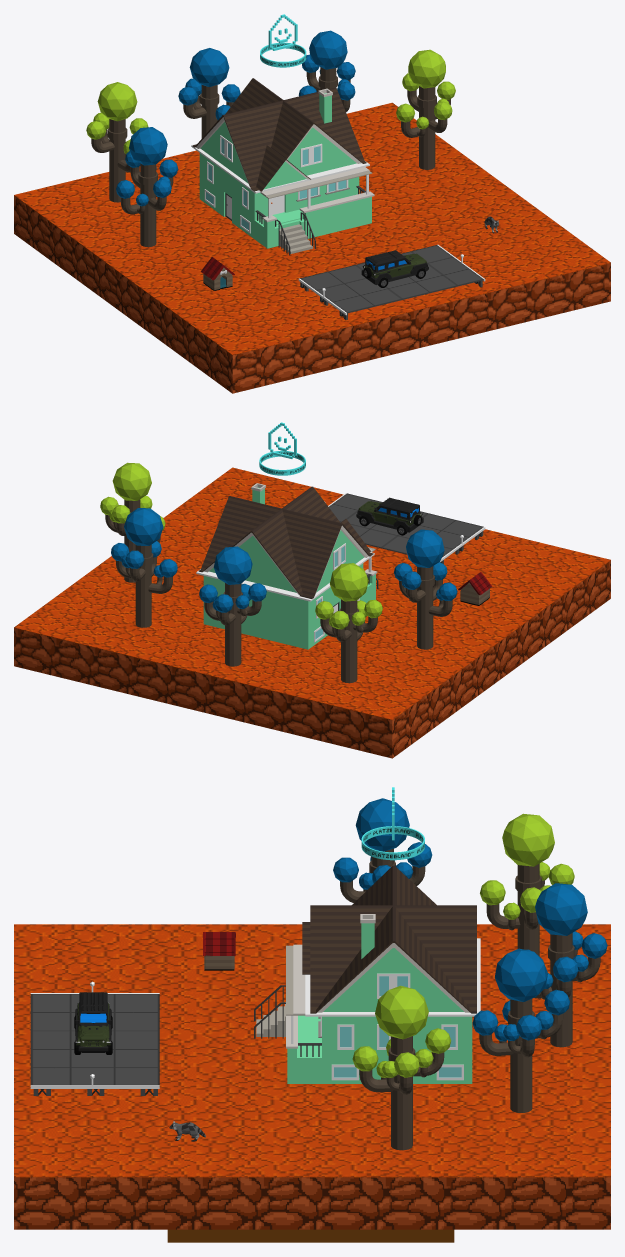
3 renders of one model, top to bottom at view 1: azimuth 30°, elevation 25°; view 2: azimuth 150°, elevation 25°; view 3: azimuth 270°, elevation 25°, orthographic. The views are drawn at different scales.
Visible parts, largest first — view 1: Cube.001, Cube.352, VEHICLES_JEEP, TYPE_PREMIUM, OBJRANDOM_DOGHOUSE; view 2: Cube.001, Cube.352, VEHICLES_JEEP, TYPE_PREMIUM, OBJRANDOM_DOGHOUSE; view 3: Cube.001, Cube.352, UNDERGROUND_ART_PIECE_VAN_GOGH, VEHICLES_JEEP, OBJRANDOM_DOGHOUSE, TYPE_PREMIUM.
Boxes of the visible parts, bbox=[...] form: Cube.001: bbox=[14, 30, 610, 393]; Cube.352: bbox=[191, 78, 374, 255]; VEHICLES_JEEP: bbox=[361, 250, 428, 287]; TYPE_PREMIUM: bbox=[260, 14, 306, 67]; OBJRANDOM_DOGHOUSE: bbox=[201, 257, 234, 290]; Cube.001: bbox=[14, 462, 610, 758]; Cube.352: bbox=[196, 483, 378, 649]; VEHICLES_JEEP: bbox=[356, 497, 423, 535]; TYPE_PREMIUM: bbox=[259, 422, 305, 475]; OBJRANDOM_DOGHOUSE: bbox=[458, 572, 492, 605]; Cube.001: bbox=[14, 798, 610, 1229]; Cube.352: bbox=[254, 865, 480, 1083]; UNDERGROUND_ART_PIECE_VAN_GOGH: bbox=[167, 1229, 454, 1242]; VEHICLES_JEEP: bbox=[74, 992, 112, 1054]; OBJRANDOM_DOGHOUSE: bbox=[203, 932, 235, 970]; TYPE_PREMIUM: bbox=[361, 787, 424, 860].
Size of the model in its own units: 4000 by 2536 by 4000.
Materials: 39 (6 with a texture image).
